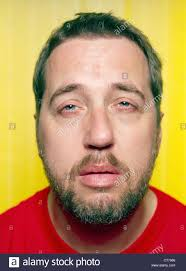PUFFY_EYES: (53, 96, 87, 118), (107, 95, 139, 114)
